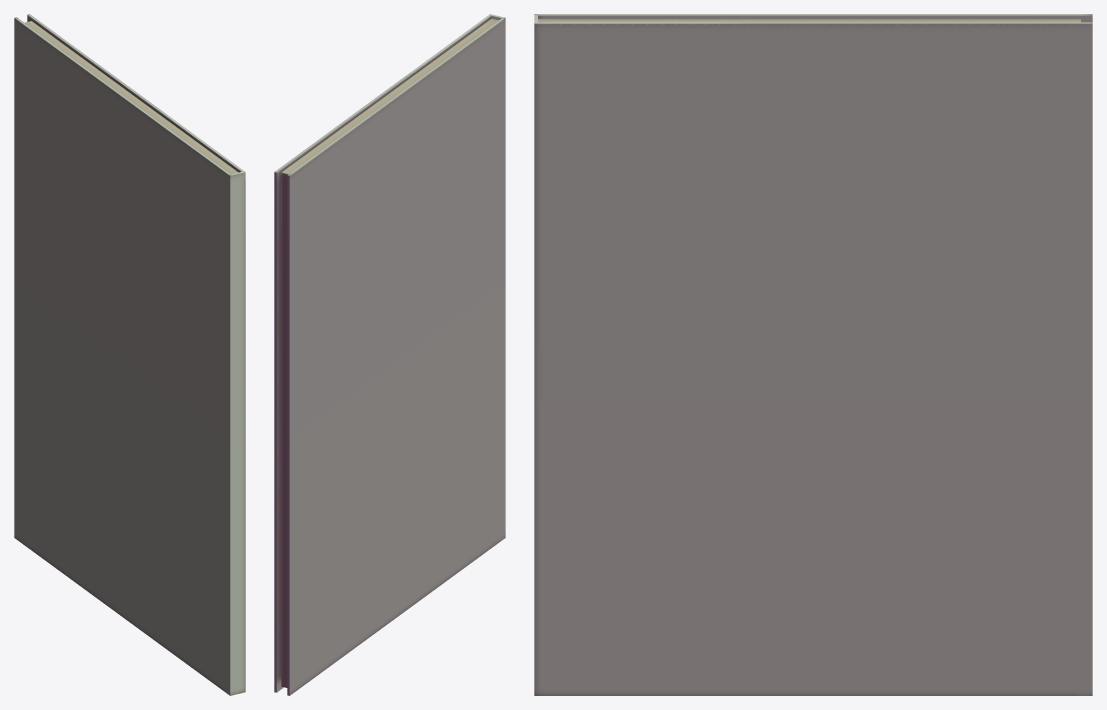
The model's file is Magazine.fbx.
3 renders of one model, left to right at view 1: azimuth 30°, elevation 25°; view 2: azimuth 150°, elevation 25°; view 3: azimuth 270°, elevation 25°, orthographic. The views are drawn at different scales.
Visible parts, largest first — view 1: Magazine; view 2: Magazine; view 3: Magazine.
Part boxes in pixels (<box>): Magazine: <box>14,14,245,695</box>; Magazine: <box>274,14,505,695</box>; Magazine: <box>534,14,1092,695</box>.
Bounding box in the file's own units: 0.9374 × 30.14 × 22.7.
